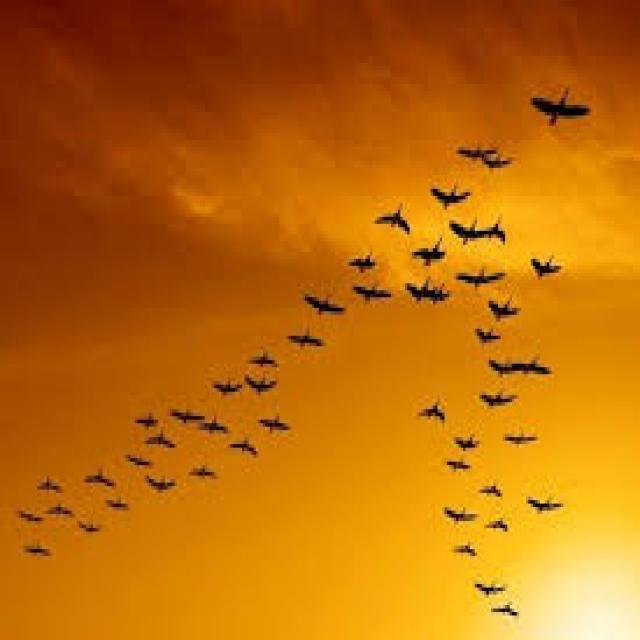bird: (514, 61, 603, 138), (343, 268, 406, 316), (438, 218, 514, 250), (246, 362, 294, 411), (284, 318, 330, 367), (409, 386, 456, 432), (298, 269, 344, 315), (422, 170, 472, 212), (372, 194, 424, 233), (450, 254, 508, 288), (440, 131, 489, 166), (474, 588, 524, 620), (479, 350, 526, 384), (532, 242, 569, 284), (240, 342, 288, 374), (76, 458, 124, 490), (432, 502, 480, 534), (410, 233, 444, 278), (401, 276, 428, 332), (201, 367, 248, 399), (478, 382, 525, 414), (489, 283, 526, 322), (195, 406, 232, 444), (260, 409, 300, 444), (526, 492, 575, 520), (519, 346, 556, 381), (474, 565, 511, 600), (142, 466, 182, 498), (114, 441, 161, 468), (481, 469, 514, 507), (27, 465, 64, 497), (486, 500, 519, 535), (228, 427, 258, 465), (446, 530, 486, 558), (143, 428, 187, 453), (502, 424, 542, 450), (452, 426, 484, 458), (14, 542, 54, 567), (444, 449, 484, 474), (488, 156, 528, 180), (10, 500, 44, 528), (168, 398, 202, 424), (468, 325, 510, 346), (44, 500, 79, 525), (346, 236, 376, 264), (192, 463, 220, 488), (426, 283, 454, 308), (108, 490, 132, 518), (134, 406, 160, 424), (80, 520, 108, 534)
